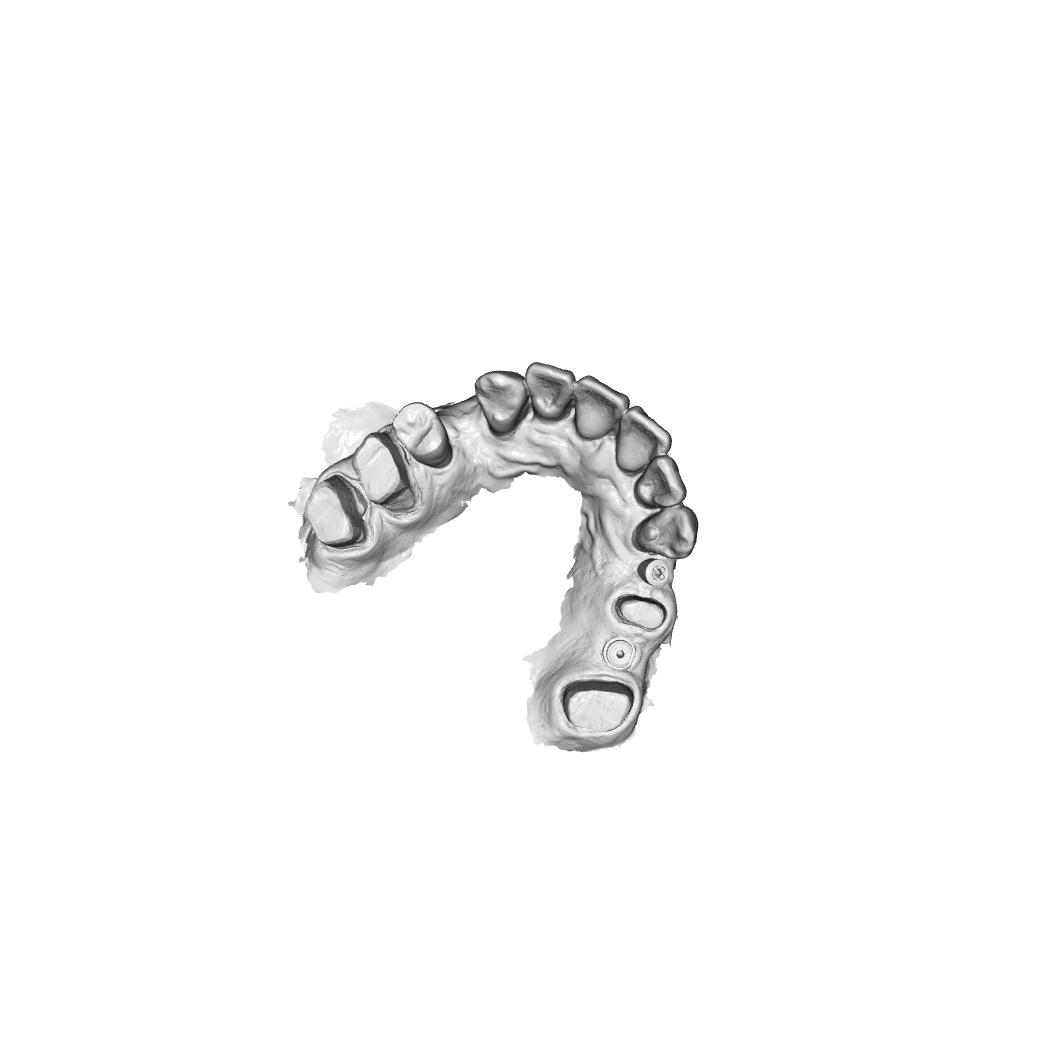canine: (472, 368, 529, 441), (633, 504, 699, 560)
crown: (351, 429, 423, 514), (303, 470, 374, 555), (559, 677, 636, 733), (611, 594, 667, 633)
implant: (601, 635, 636, 671)
implant_plus: (636, 557, 670, 587)
incisor: (613, 405, 673, 473), (574, 373, 631, 442), (524, 361, 576, 423), (632, 454, 688, 510)
premolar: (390, 401, 454, 470)
